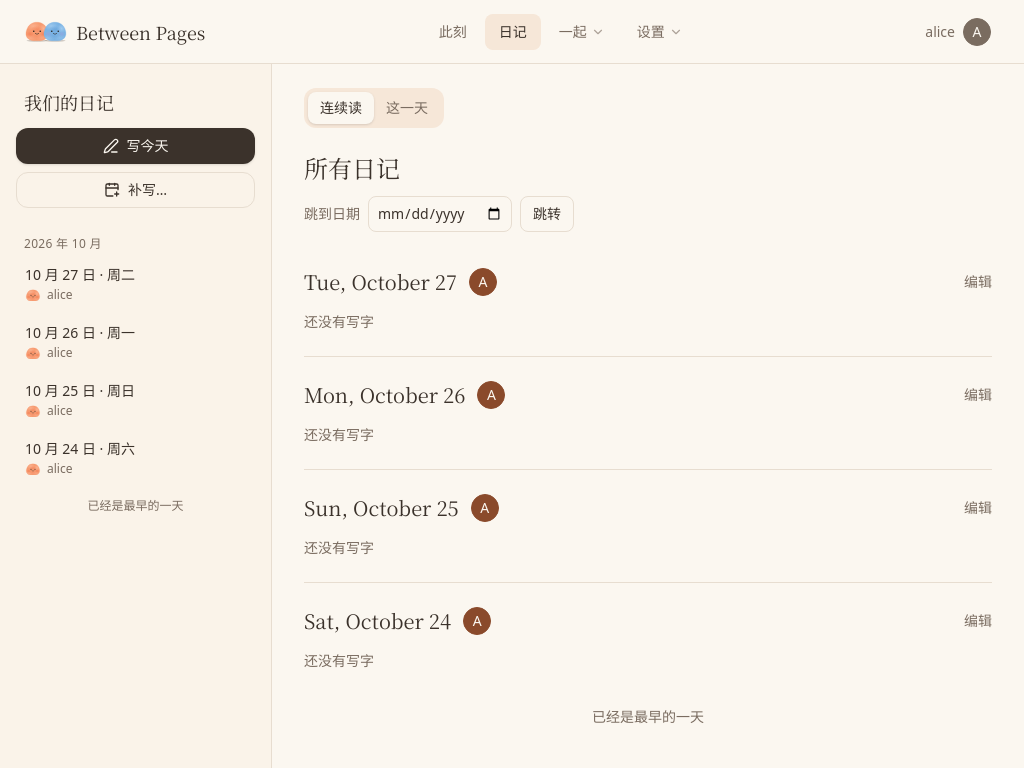
Scenario: DaysWorkspace › [adr:digital-paper-interface#10] opens a date from the feed in the one main area, and 连续读 brings the feed back where it was
The width and height of the screenshot is (1024, 768).
Later steps or results of the test are not shown.
(page scrolled)
Expected: the element showing "Sat, October 24 A 编辑 还没有写字" is shown, [304,582,992,695]
Expected: the navigation bar named "日期索引" is shown, [24,235,184,514]
Click the link "Sat, October 24" at (378, 620), box [304,606,451,635]
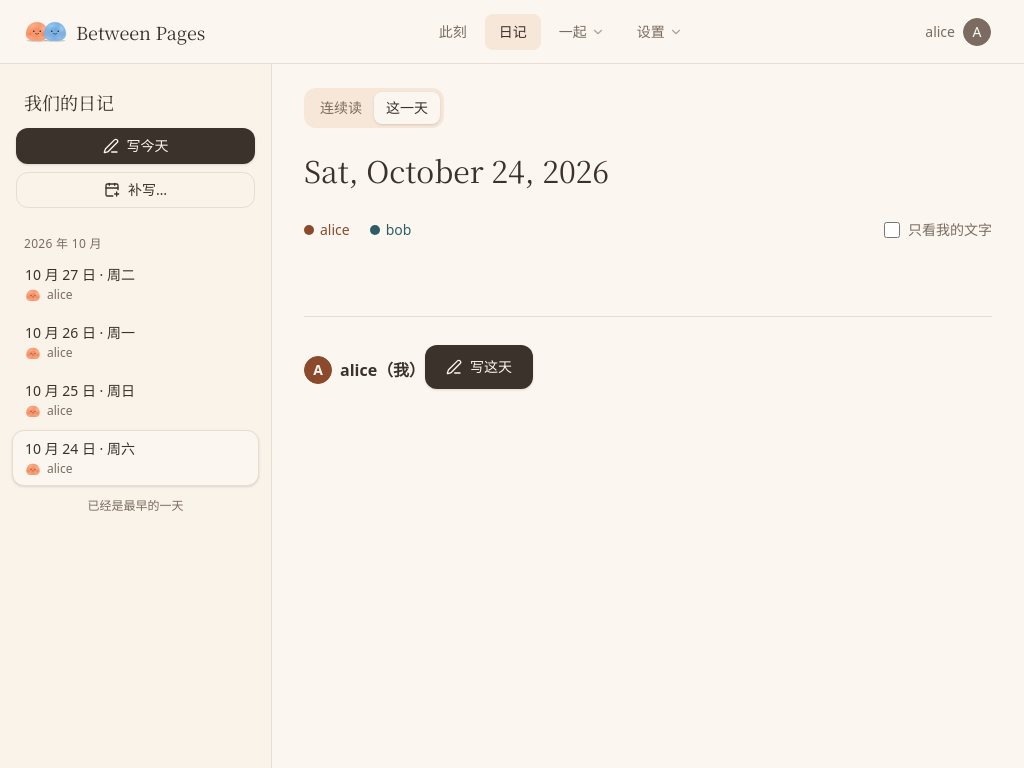
Now the button "写这天" is shown, box [425,345,533,389]
Now the heading "所有日记" is gone
